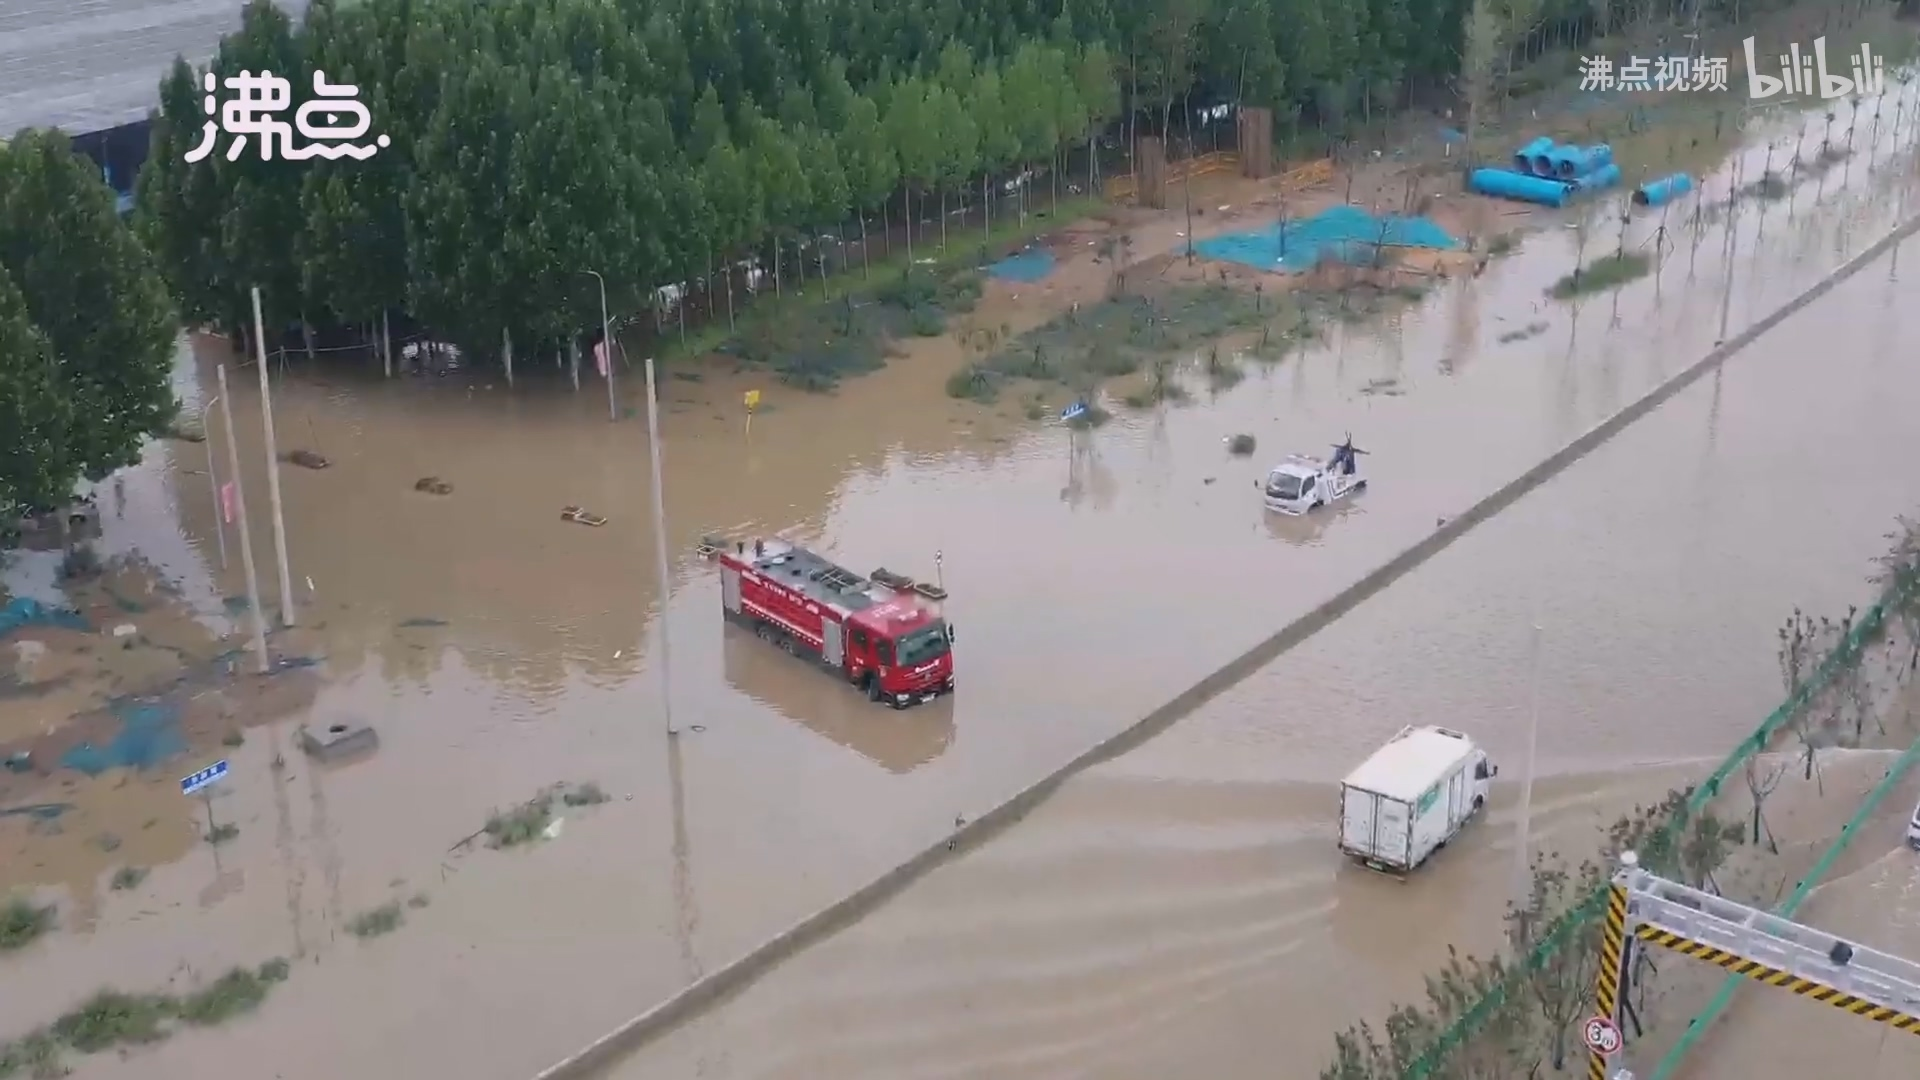puddle: (179, 315, 1502, 1059)
